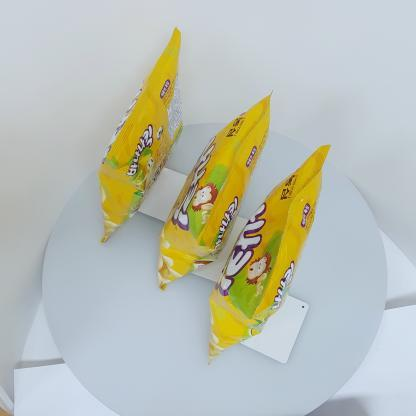Plastic Packaging: (210, 141, 348, 377), (92, 20, 186, 242)
